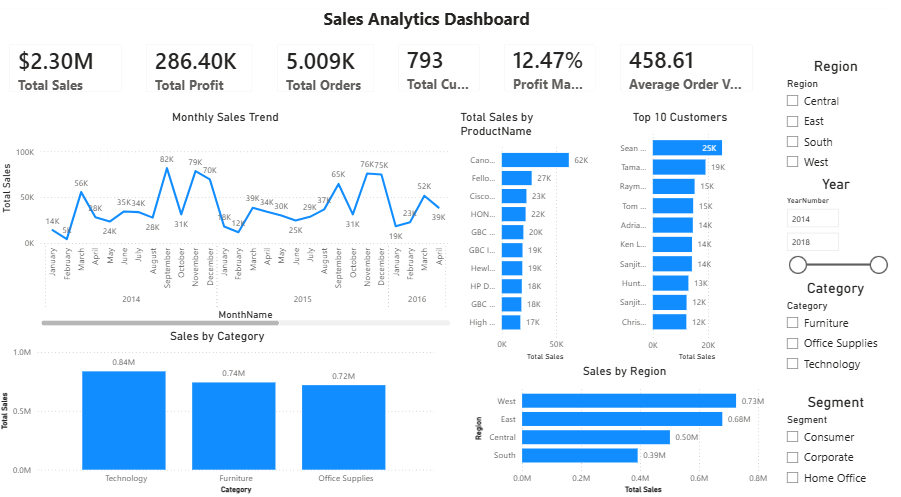

This screenshot's page, from the dashboard's own definition file:
{"tool":"powerbi","page":{"name":"Executive Dashboard","canvas":[1280,720],"ordinal":0},"visuals":[{"type":"cardVisual","fields":{"Data":["dw FactSales.Total Sales"]},"box":[0,41.1,195.6,103.3],"z":0},{"type":"cardVisual","fields":{"Data":["dw FactSales.Total Profit"]},"box":[195.6,41.1,186.7,103.3],"z":1000},{"type":"cardVisual","fields":{"Data":["dw FactSales.Total Orders"]},"box":[382.2,41.1,173.3,103.3],"z":2000},{"type":"cardVisual","fields":{"Data":["dw FactSales.Total Customers"]},"box":[555.7,41.4,151.4,102.9],"z":3000},{"type":"cardVisual","fields":{"Data":["dw FactSales.Average Order Value"]},"box":[872.9,41.4,224.3,102.9],"z":4000},{"type":"cardVisual","fields":{"Data":["dw FactSales.Profit Margin %","dw FactSales.Profit Margin %"]},"box":[707.1,41.4,165.7,102.9],"z":5000},{"type":"lineChart","title":"Monthly Sales Trend","fields":{"Category":["dw DimDate.YearNumber","dw DimDate.MonthName"],"Y":["dw FactSales.Total Sales"]},"box":[0,152.2,652.2,313.3],"z":6000},{"type":"clusteredColumnChart","title":"Sales by Category","fields":{"Category":["dw DimProduct.Category"],"Y":["dw FactSales.Total Sales"]},"box":[0,465.4,629.3,240],"z":7000},{"type":"clusteredBarChart","title":"Sales by Region","fields":{"Category":["dw DimGeography.Region"],"Y":["dw FactSales.Total Sales"]},"box":[677.1,515.7,438.6,190],"z":8000},{"type":"clusteredBarChart","title":"Top 10 Customers","fields":{"Category":["dw DimCustomer.CustomerName"],"Y":["dw FactSales.Total Sales"]},"box":[872.9,152.9,205.7,362.9],"z":9000},{"type":"clusteredBarChart","fields":{"Category":["dw DimProduct.ProductName"],"Y":["dw FactSales.Total Sales"]},"box":[656.7,152.2,203.3,362.2],"z":10000},{"type":"slicer","title":"Year","fields":{"Values":["dw DimDate.YearNumber"]},"box":[1115,247.5,165,147.5],"z":11000},{"type":"slicer","title":"Category","fields":{"Values":["dw DimProduct.Category"]},"box":[1115,395,165,140],"z":12000},{"type":"slicer","title":"Region","fields":{"Values":["dw DimGeography.Region"]},"box":[1115,78.8,165,168.8],"z":13000},{"type":"slicer","title":"Segment","fields":{"Values":["dw DimCustomer.Segment"]},"box":[1115,558.8,165,146.2],"z":14000},{"type":"textbox","box":[461.7,0,336.7,51.7],"z":14001}]}

Visuals, with their boxes in screenshot pixels (x1, y1, x2, y2), scaled from the page's 1280x720 canvas onto the 901x497 screenshot:
cardVisual - dw FactSales.Total Sales: select_region(0, 28, 138, 100)
cardVisual - dw FactSales.Total Profit: select_region(138, 28, 269, 100)
cardVisual - dw FactSales.Total Orders: select_region(269, 28, 391, 100)
cardVisual - dw FactSales.Total Customers: select_region(391, 29, 498, 100)
cardVisual - dw FactSales.Average Order Value: select_region(614, 29, 772, 100)
cardVisual - dw FactSales.Profit Margin % x dw FactSales.Profit Margin %: select_region(498, 29, 614, 100)
"Monthly Sales Trend" lineChart: select_region(0, 105, 459, 321)
"Sales by Category" clusteredColumnChart: select_region(0, 321, 443, 487)
"Sales by Region" clusteredBarChart: select_region(477, 356, 785, 487)
"Top 10 Customers" clusteredBarChart: select_region(614, 106, 759, 356)
clusteredBarChart - dw DimProduct.ProductName x dw FactSales.Total Sales: select_region(462, 105, 605, 355)
"Year" slicer: select_region(785, 171, 900, 273)
"Category" slicer: select_region(785, 273, 900, 369)
"Region" slicer: select_region(785, 54, 900, 171)
"Segment" slicer: select_region(785, 386, 900, 487)
textbox: select_region(325, 0, 562, 36)
